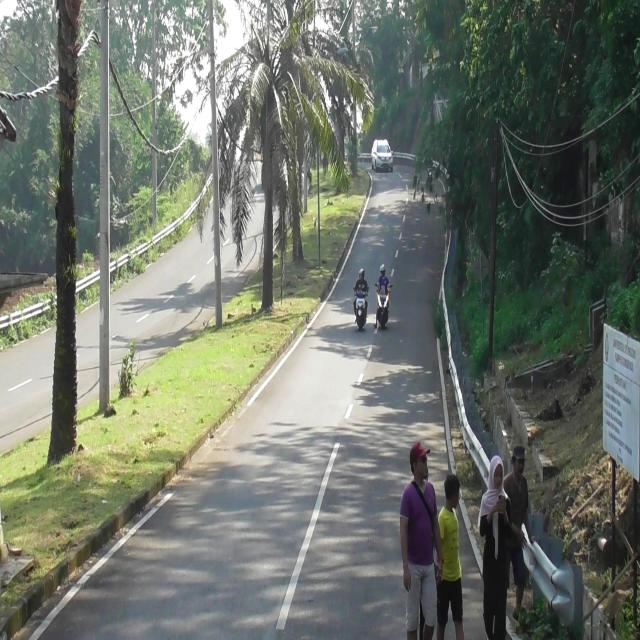motorcycle: (375, 282, 392, 328), (353, 285, 368, 333)
person: (354, 271, 368, 319), (377, 263, 391, 295)
rider_region: (352, 268, 371, 330), (374, 264, 392, 329)
